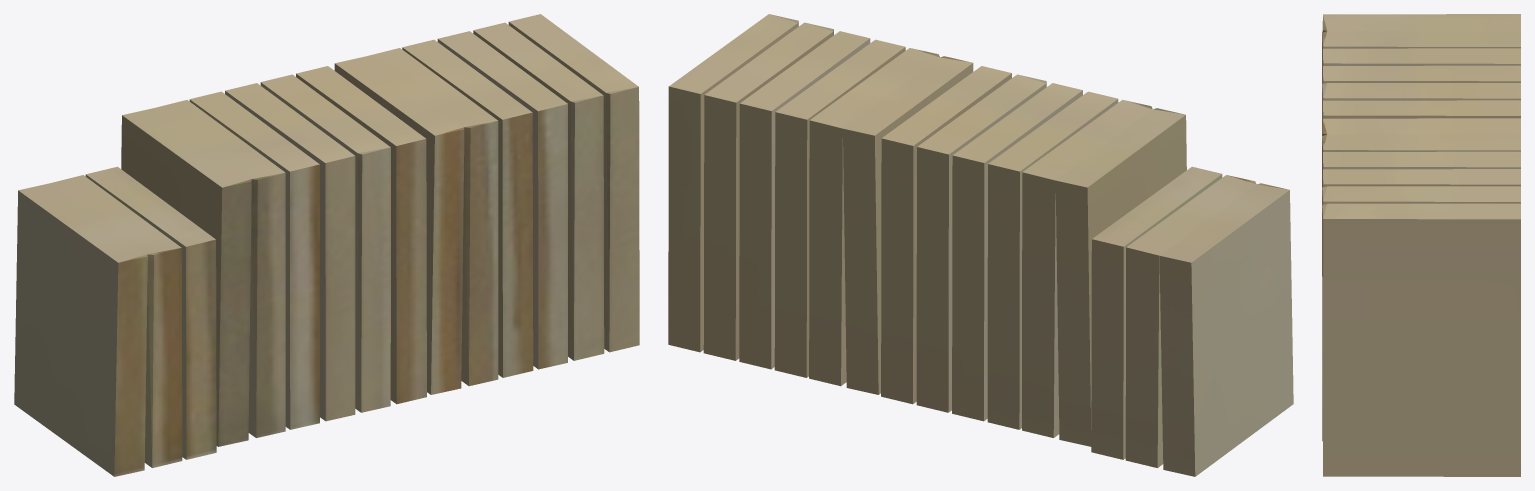
Rendered from book3_v4.dae.
The picture shows the model from 3 angles, left to right: view 1: azimuth 30°, elevation 25°; view 2: azimuth 150°, elevation 25°; view 3: azimuth 270°, elevation 25°; orthographic projection.
Parts seen in each view (by area): view 1: node; view 2: node; view 3: node.
Part boxes in pixels (box(x1,y1,x2,y2)): node: box(14, 14, 639, 476); node: box(668, 14, 1293, 476); node: box(1322, 14, 1520, 476).
Size of the model in its own units: 0.3666 by 0.1753 by 0.1203.
1 material, 1 textured.
